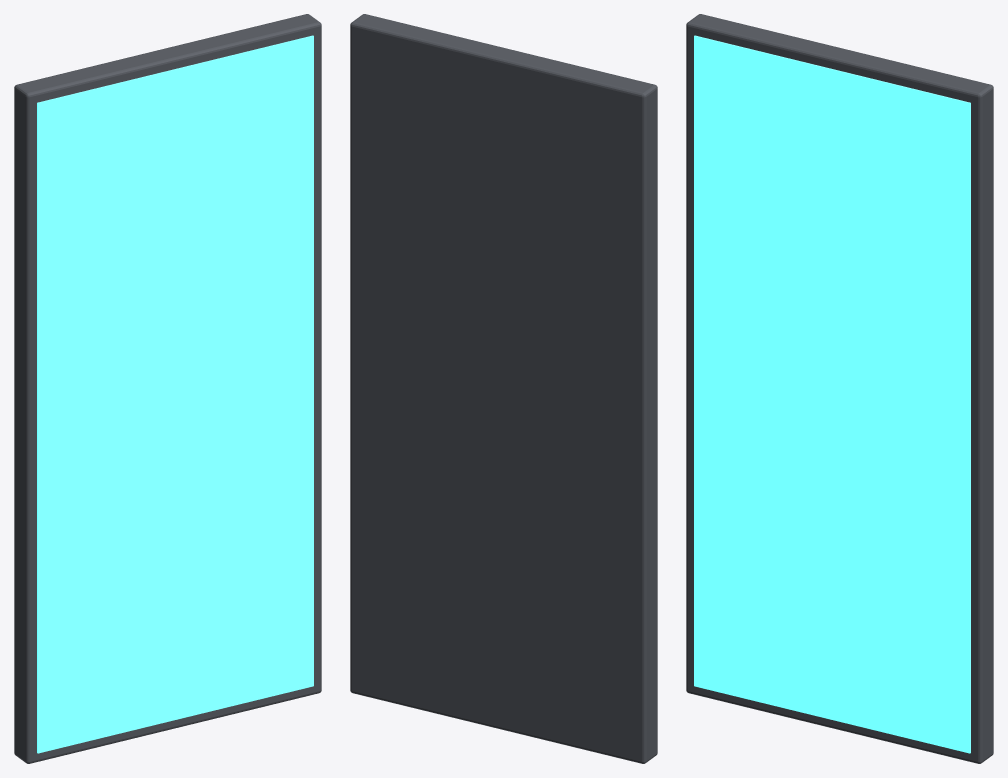
Rendered from wall_screen_tall_cyan.glb.
The picture shows the model from 3 angles, left to right: view 1: azimuth 30°, elevation 25°; view 2: azimuth 150°, elevation 25°; view 3: azimuth 330°, elevation 25°; orthographic projection.
Visible parts, largest first — view 1: GD_wall_screen_tall_cyan__m1, GD_wall_screen_tall_cyan__m0; view 2: GD_wall_screen_tall_cyan__m0; view 3: GD_wall_screen_tall_cyan__m1, GD_wall_screen_tall_cyan__m0.
Boxes of the visible parts, box(x1,y1,x2,y2) form: GD_wall_screen_tall_cyan__m1: box(37, 35, 313, 753); GD_wall_screen_tall_cyan__m0: box(14, 14, 321, 763); GD_wall_screen_tall_cyan__m0: box(350, 14, 657, 763); GD_wall_screen_tall_cyan__m1: box(694, 35, 970, 753); GD_wall_screen_tall_cyan__m0: box(686, 14, 993, 763).
Size of the model in its own units: 0.6 by 1.3 by 0.053.
